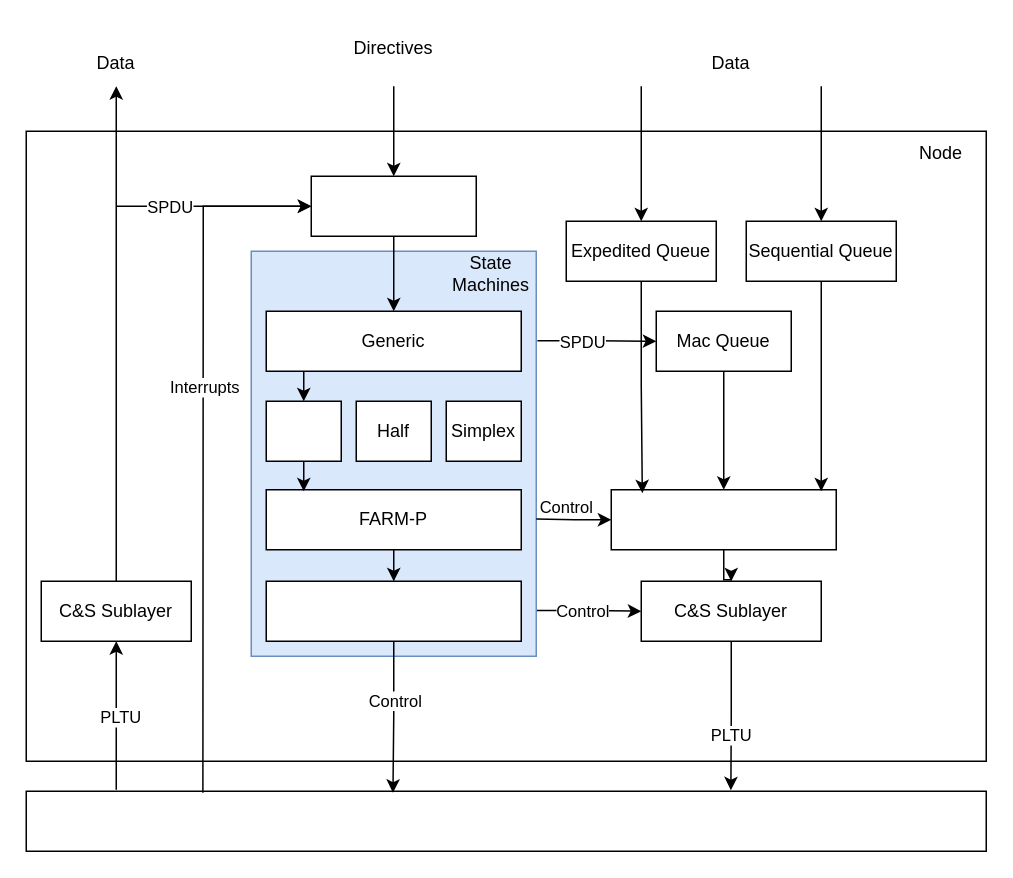
This 1013x878 diagram has some shape labels left out. The centre of each missing label's shape, as x and y in pixels:
"Event Queue" goes at (393,205).
"FOP-P" goes at (393,610).
"Frame Sublayer" goes at (723,519).
"Full" goes at (303,430).
"Transceiver (Physical Layer)" goes at (505,820).
